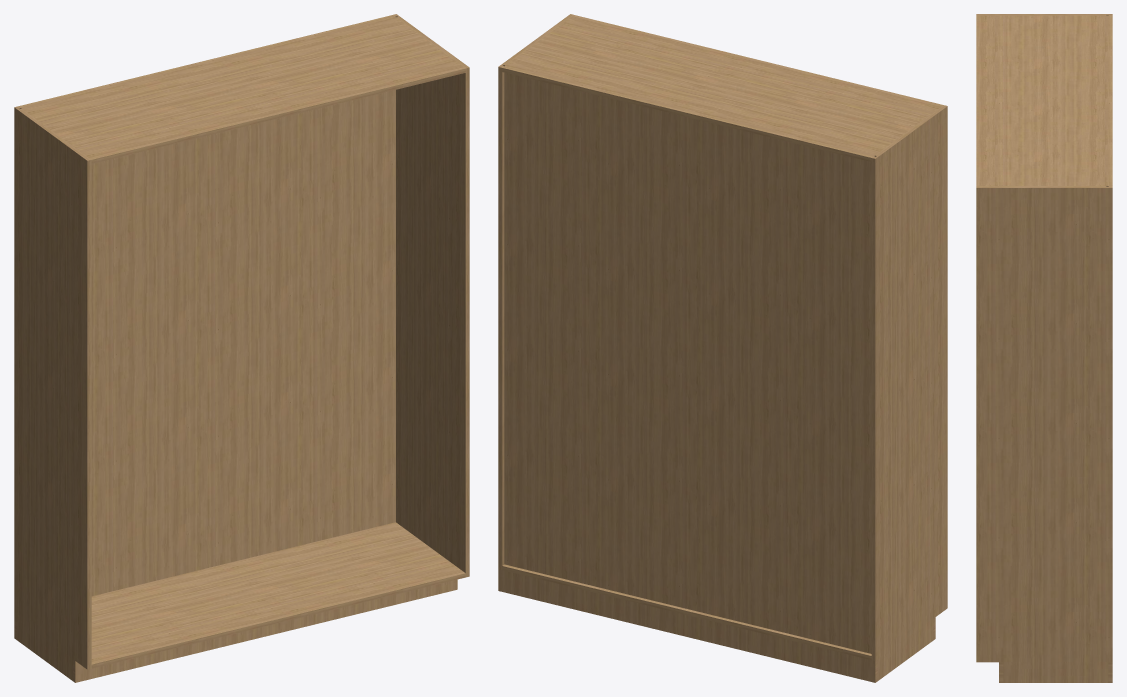
3 renders of one model, left to right at view 1: azimuth 30°, elevation 25°; view 2: azimuth 150°, elevation 25°; view 3: azimuth 270°, elevation 25°, orthographic. The views are drawn at different scales.
Parts seen in each view (by area): view 1: Geom3D; view 2: Geom3D; view 3: Geom3D.
Part boxes in pixels (box(x1,y1,x2,y2)): Geom3D: box(14, 14, 469, 682); Geom3D: box(498, 14, 947, 682); Geom3D: box(976, 14, 1112, 682).
Bounding box in the file's own units: 1.81 × 2.4 × 0.6.
1 material, 1 textured.
